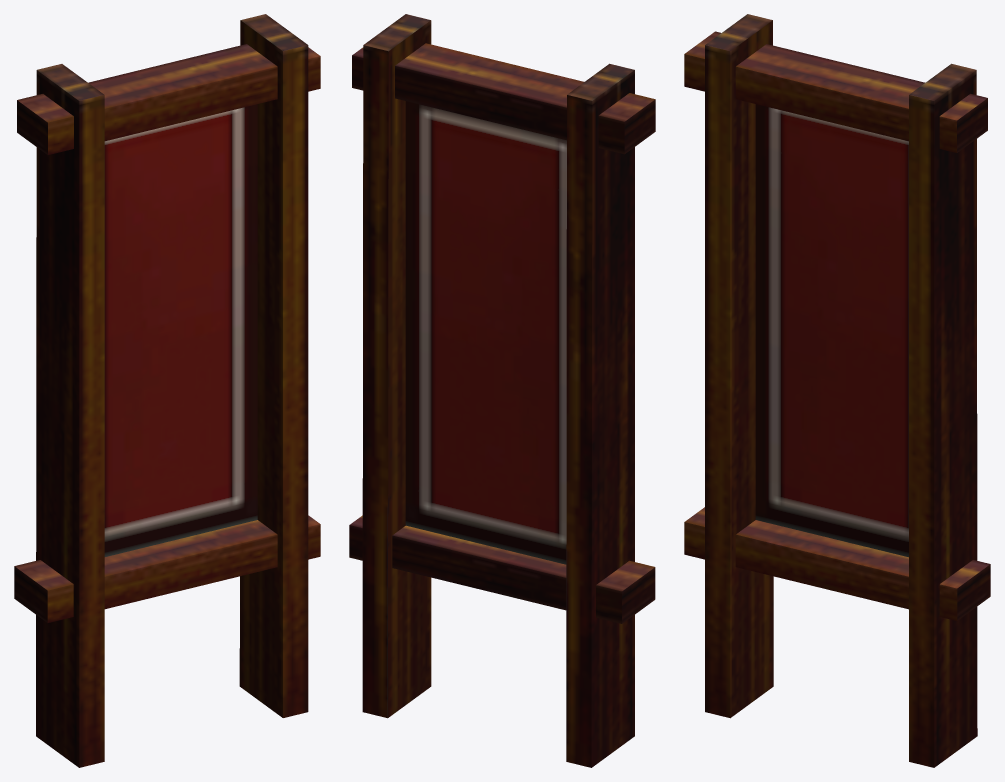
File: ob-standganpan-05.fbx
3 renders of one model, left to right at view 1: azimuth 30°, elevation 25°; view 2: azimuth 150°, elevation 25°; view 3: azimuth 330°, elevation 25°, orthographic.
Visible parts, largest first — view 1: Object06; view 2: Object06; view 3: Object06.
Boxes of the visible parts, left/top/right/bottom form: Object06: left=14, top=14, right=320, bottom=767; Object06: left=349, top=14, right=655, bottom=767; Object06: left=684, top=14, right=990, bottom=767.
Bounding box in the file's own units: 1.12 × 2.61 × 0.307.
